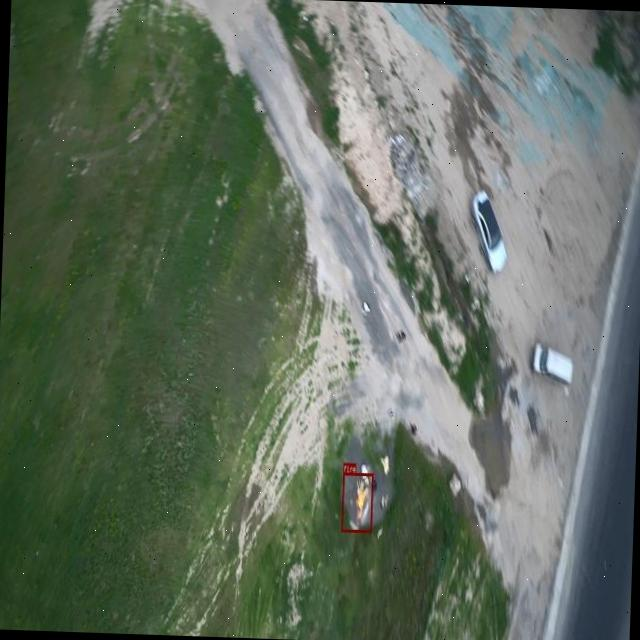fire: (340, 472, 372, 532)
